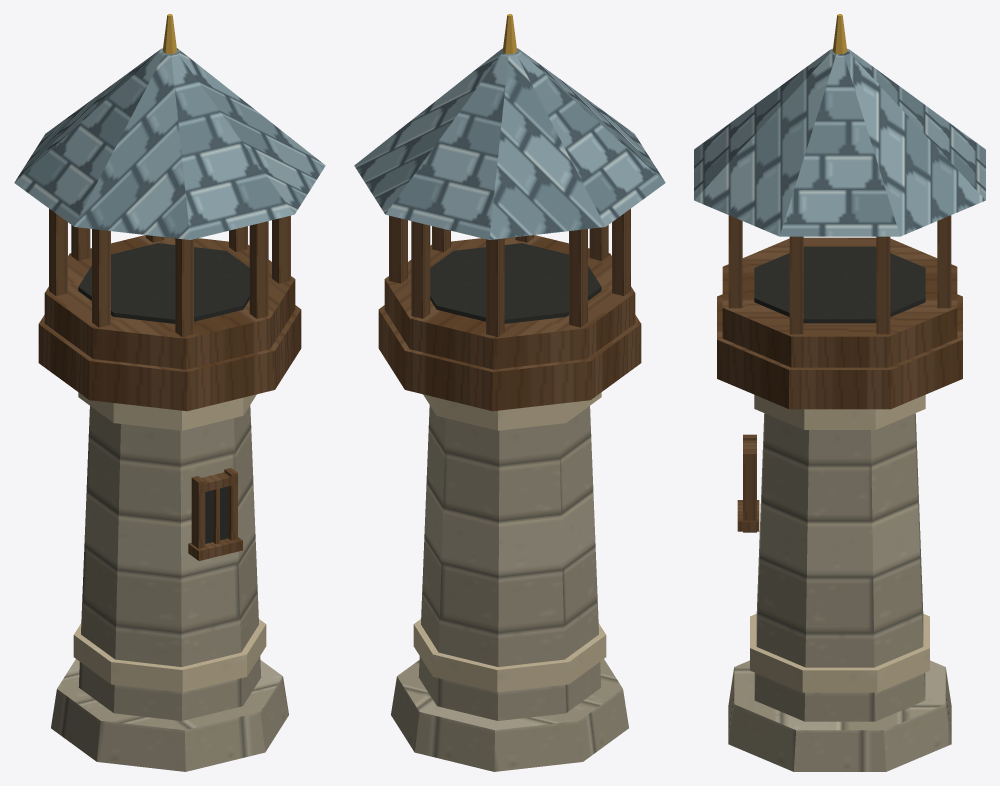
The model's file is archer-tower.glb.
The picture shows the model from 3 angles, left to right: view 1: azimuth 30°, elevation 25°; view 2: azimuth 150°, elevation 25°; view 3: azimuth 270°, elevation 25°; orthographic projection.
Parts seen in each view (by area): view 1: Building_Body.004; view 2: Building_Body.004; view 3: Building_Body.004.
Part boxes in pixels (bbox=[...]): Building_Body.004: bbox=[14, 14, 325, 771]; Building_Body.004: bbox=[354, 14, 665, 771]; Building_Body.004: bbox=[694, 14, 985, 771].
Bounding box in the file's own units: 0.9424 × 2.53 × 0.9424.
Materials: 1 (1 with a texture image).
